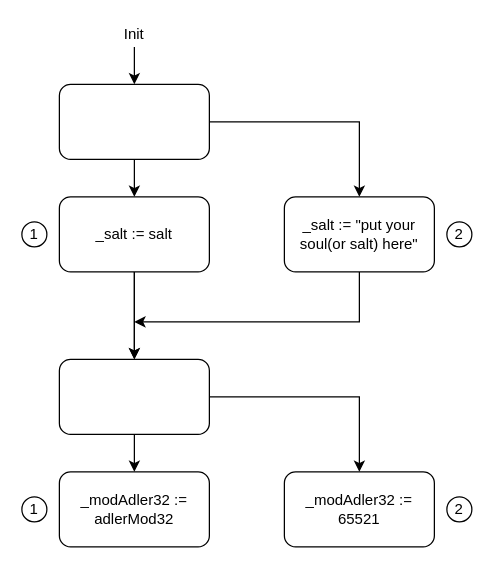
This 494x569 diagram has some shape labels left out. Each missing label, with the centre of its shape:
adlerMod32 > 0: (133,396)
salt != null; salt != empty string: (133,121)
